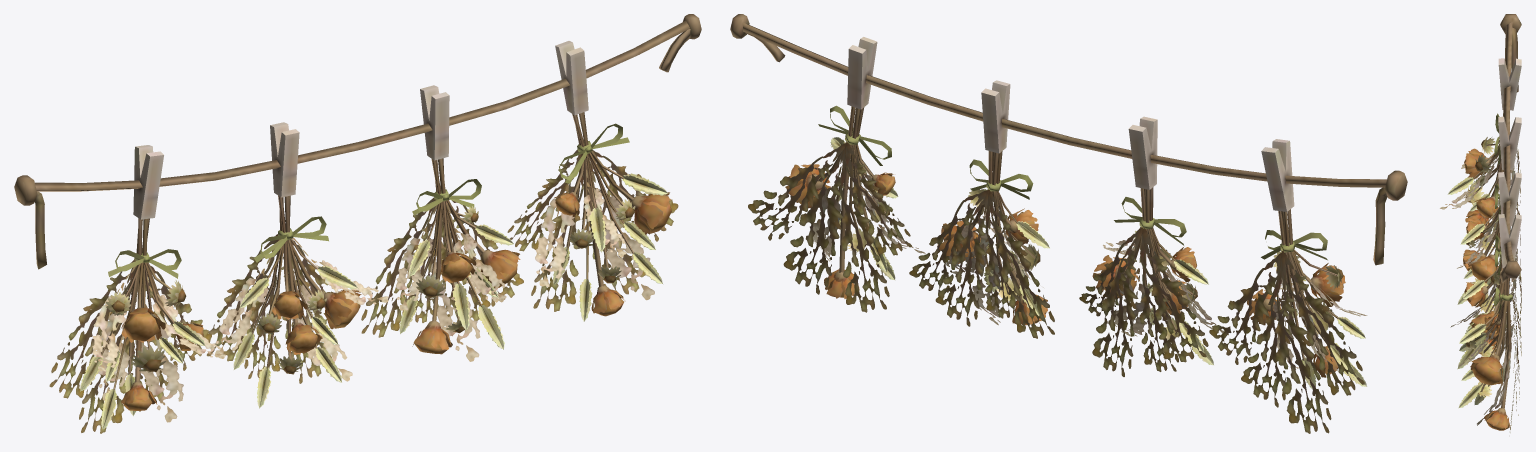
3 views of the same model, side by side, from view 1: azimuth 30°, elevation 25°; view 2: azimuth 150°, elevation 25°; view 3: azimuth 270°, elevation 25° (orthographic). The views are drawn at different scales.
Size of the model in its own units: 20 by 8.01 by 2.91.
Materials: 1 (1 with a texture image).
